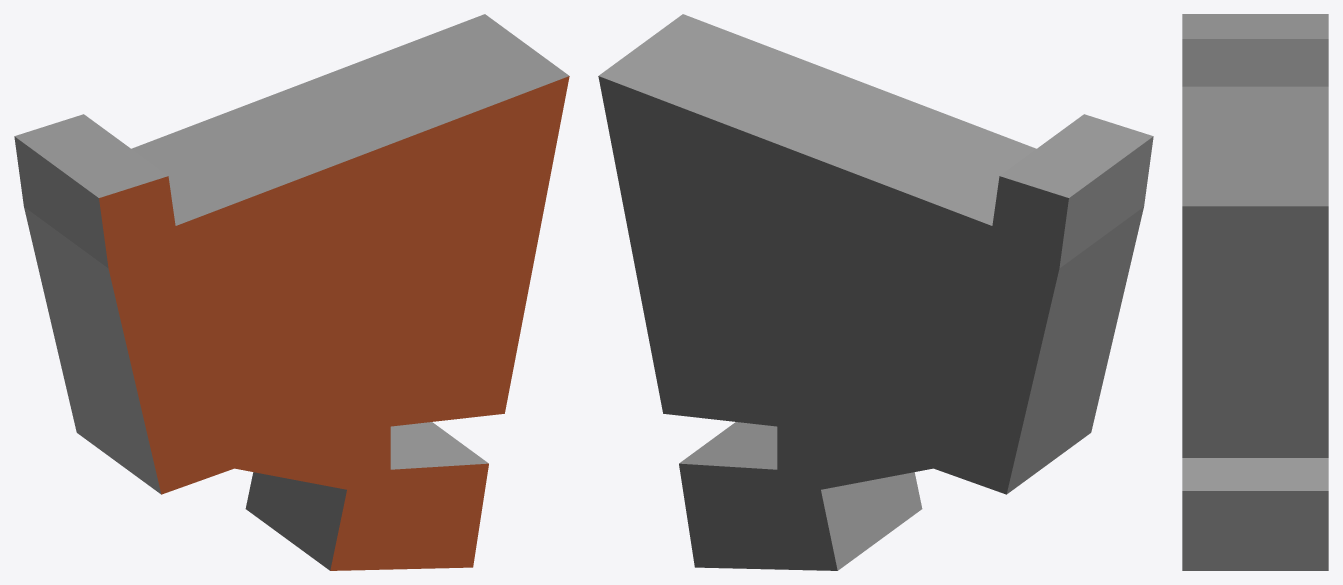
The model's file is construction_3903_assumed_A_Casa_h6m.obj.
3 renders of one model, left to right at view 1: azimuth 30°, elevation 25°; view 2: azimuth 150°, elevation 25°; view 3: azimuth 270°, elevation 25°, orthographic. The views are drawn at different scales.
Visible parts, largest first — view 1: construction_3903_assumed_A_Casa; view 2: construction_3903_assumed_A_Casa; view 3: construction_3903_assumed_A_Casa.
Boxes of the visible parts, left/top/right/bottom form: construction_3903_assumed_A_Casa: left=14, top=14, right=569, bottom=570; construction_3903_assumed_A_Casa: left=598, top=14, right=1153, bottom=570; construction_3903_assumed_A_Casa: left=1182, top=14, right=1328, bottom=570.
Size of the model in its own units: 19.26 by 18.3 by 6.
